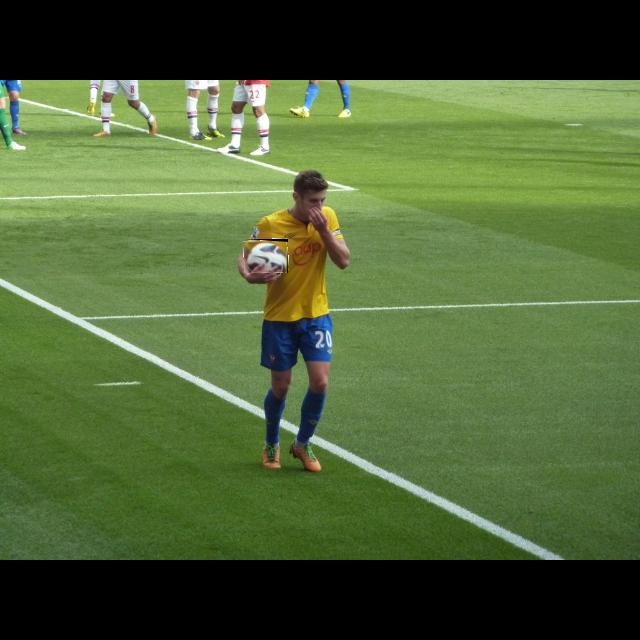Football: (244, 239, 288, 273)
